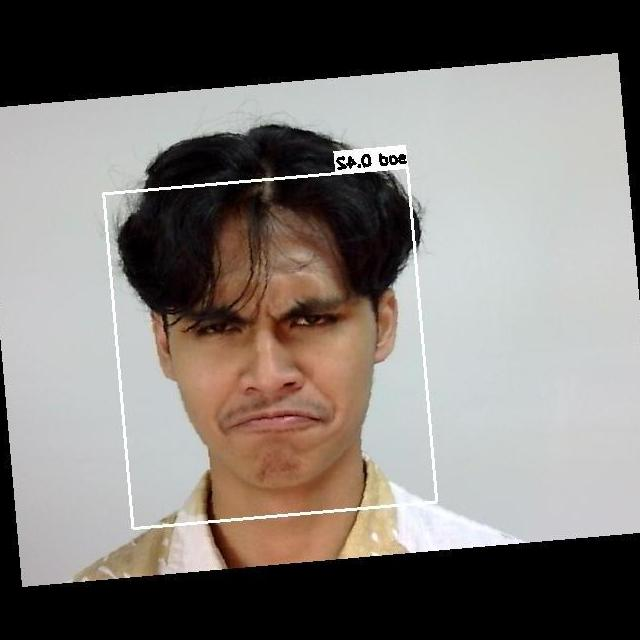Sad: (156, 263, 395, 465)
